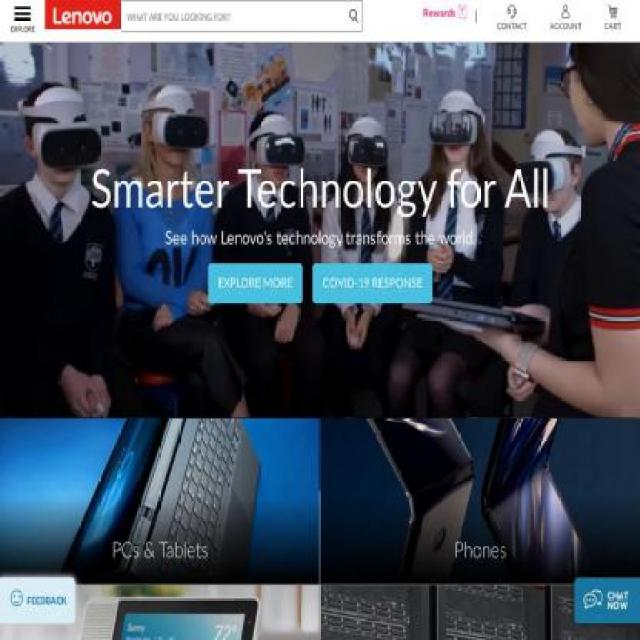button: (320, 418, 640, 585), (0, 418, 320, 584), (0, 586, 320, 640), (320, 586, 640, 640), (312, 264, 433, 304), (208, 264, 303, 304), (0, 577, 75, 624), (45, 0, 120, 29), (545, 0, 586, 37), (492, 0, 532, 37), (422, 2, 467, 24), (600, 0, 626, 37), (10, 7, 35, 18)
field: (119, 0, 363, 32)
